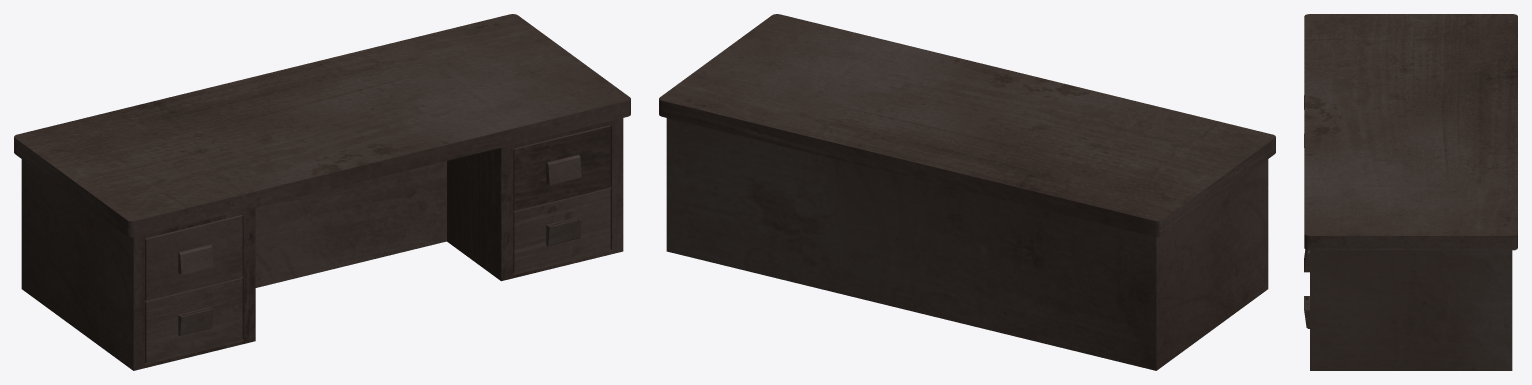
File: desk.fbx
The picture shows the model from 3 angles, left to right: view 1: azimuth 30°, elevation 25°; view 2: azimuth 150°, elevation 25°; view 3: azimuth 270°, elevation 25°; orthographic projection. The views are drawn at different scales.
Parts seen in each view (by area): view 1: desk; view 2: desk; view 3: desk.
Boxes of the visible parts, box(x1,y1,x2,y2) form: desk: box(14, 14, 630, 370); desk: box(659, 14, 1275, 370); desk: box(1304, 14, 1517, 370).
Bounding box in the file's own units: 519 × 150 × 211.
